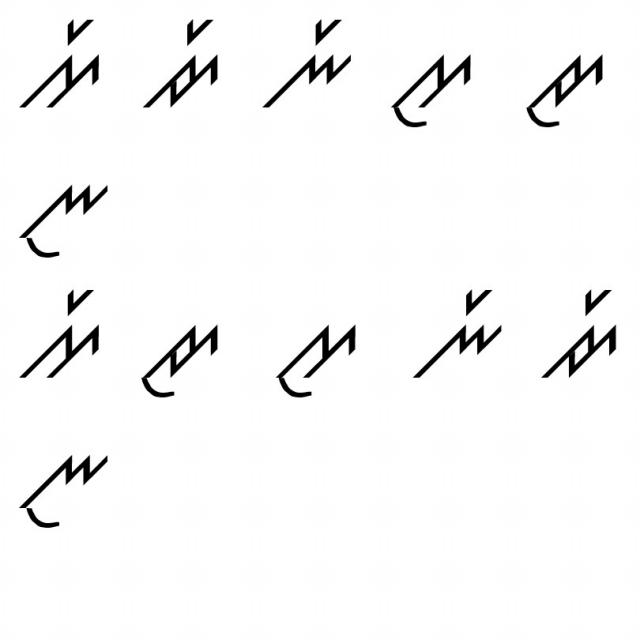jar: (135, 13, 226, 112), (544, 280, 622, 390)
jaw: (136, 310, 226, 407), (523, 45, 611, 132)
nyar: (405, 278, 504, 386), (255, 12, 357, 110)
nyaw: (17, 446, 118, 536), (12, 172, 110, 262)
sar: (18, 282, 108, 382), (20, 18, 108, 112)
saw: (266, 310, 368, 410), (383, 42, 474, 133)
